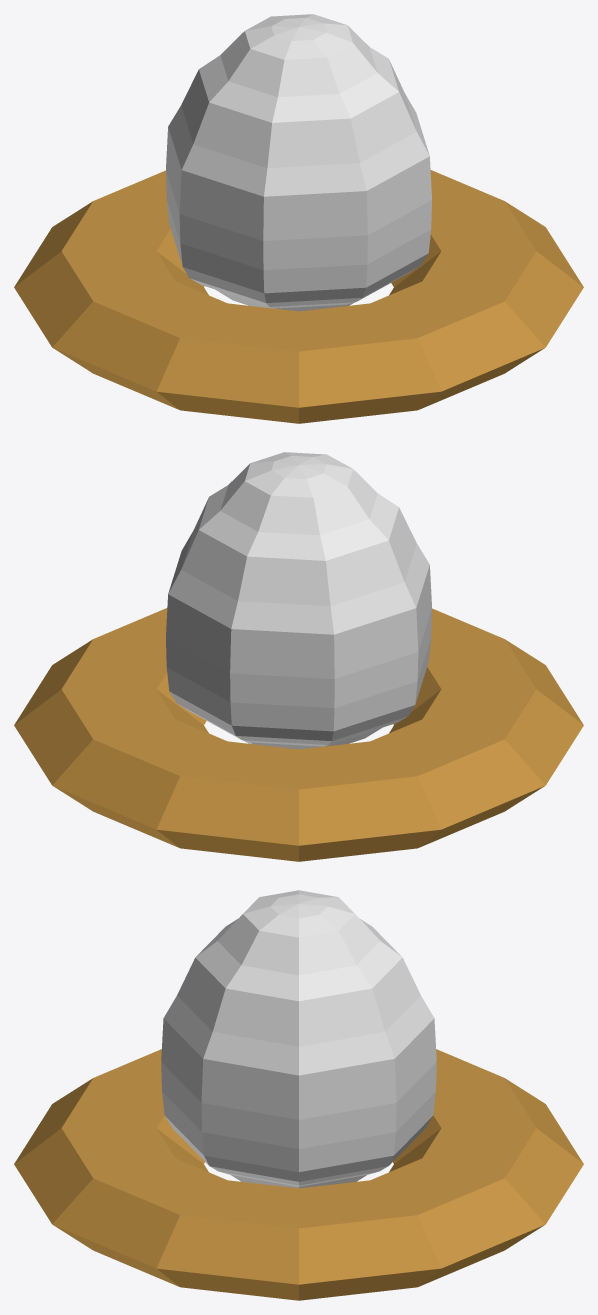
The model's file is egg.glb.
The picture shows the model from 3 angles, top to bottom: view 1: azimuth 30°, elevation 25°; view 2: azimuth 150°, elevation 25°; view 3: azimuth 270°, elevation 25°; orthographic projection.
Parts seen in each view (by area): view 1: nest, egg; view 2: nest, egg; view 3: nest, egg.
Part boxes in pixels (left/top/right/bottom): nest: left=14, top=170, right=583, bottom=423; egg: left=166, top=14, right=431, bottom=311; nest: left=14, top=608, right=583, bottom=861; egg: left=166, top=452, right=431, bottom=749; nest: left=14, top=1049, right=583, bottom=1300; egg: left=161, top=890, right=436, bottom=1188.
Bounding box in the file's own units: 0.4858 × 0.2789 × 0.4858.
